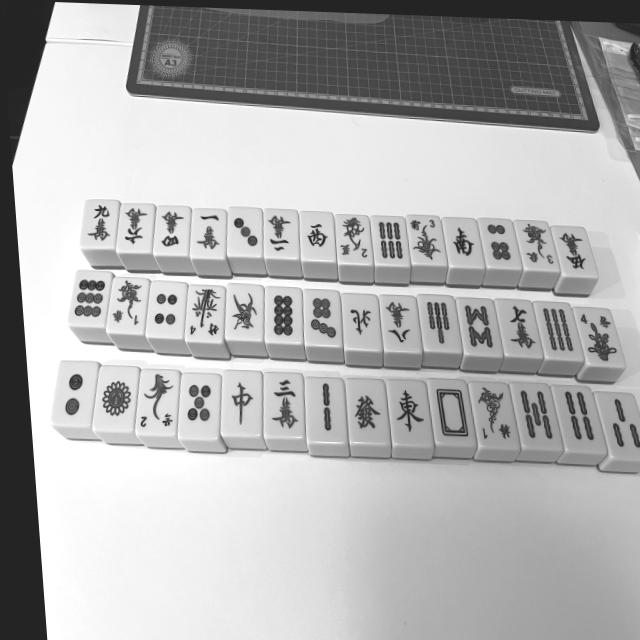bai: (427, 379, 477, 447)
east: (387, 378, 436, 447)
f1: (468, 380, 521, 450)
f2: (132, 368, 187, 437)
f3: (406, 215, 448, 265)
f4: (182, 283, 231, 343)
fa: (345, 378, 392, 446)
ff1: (103, 276, 154, 337)
ff2: (335, 214, 375, 264)
ff3: (514, 220, 559, 271)
ff4: (571, 308, 625, 369)
m1: (186, 208, 230, 260)
m2: (263, 208, 303, 259)
m3: (259, 372, 308, 439)
m4: (150, 205, 194, 258)
m5: (550, 225, 597, 278)
m6: (112, 203, 157, 255)
m7: (495, 301, 542, 359)
m8: (378, 293, 421, 353)
m9: (76, 200, 120, 250)
north: (341, 294, 382, 351)
s1: (221, 282, 268, 341)
s2: (302, 377, 348, 446)
s3: (595, 391, 640, 463)
s4: (552, 384, 609, 455)
s5: (509, 381, 565, 451)
s6: (372, 215, 411, 266)
s7: (419, 293, 463, 353)
s8: (457, 299, 502, 358)
s9: (535, 302, 584, 362)
south: (443, 217, 485, 270)
t1: (90, 364, 146, 435)
t2: (45, 360, 103, 430)
t3: (225, 207, 265, 258)
t4: (143, 280, 192, 339)
t5: (176, 373, 228, 441)
t6: (478, 220, 522, 271)
t7: (302, 288, 345, 346)
t8: (264, 287, 307, 345)
t9: (65, 269, 118, 329)
west: (299, 212, 339, 263)
zhong: (219, 370, 268, 439)
